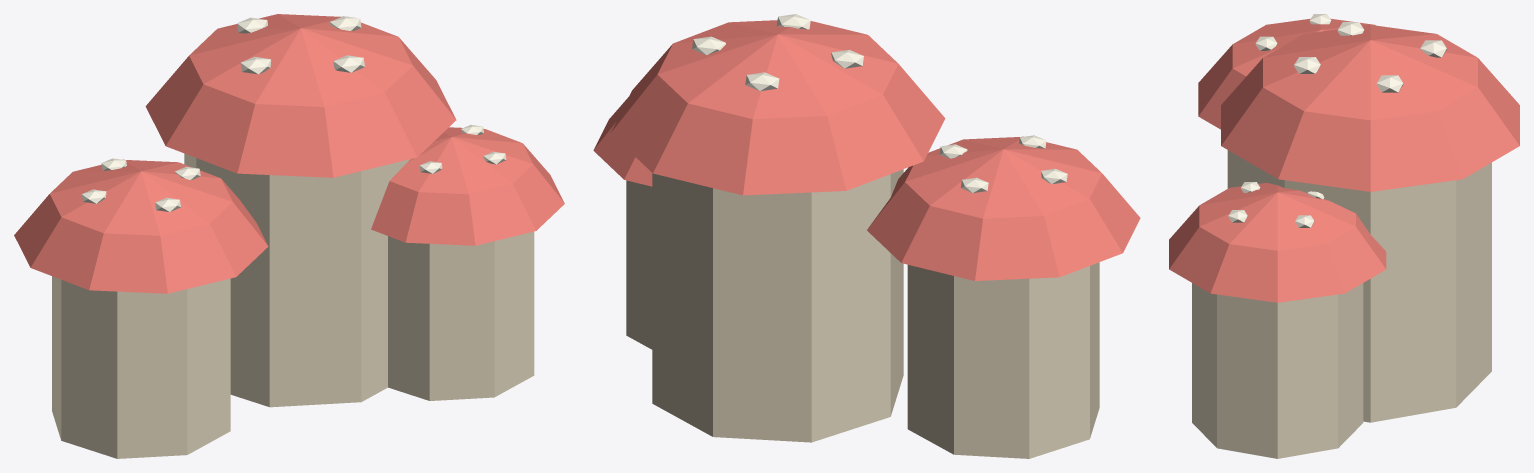
File: Mushroom_RedWhite.glb
3 renders of one model, left to right at view 1: azimuth 30°, elevation 25°; view 2: azimuth 150°, elevation 25°; view 3: azimuth 270°, elevation 25°, orthographic. The views are drawn at different scales.
Parts seen in each view (by area): view 1: FTF_Nature_Mushroom_RedWhite_Natural_StaticMesh; view 2: FTF_Nature_Mushroom_RedWhite_Natural_StaticMesh; view 3: FTF_Nature_Mushroom_RedWhite_Natural_StaticMesh.
Part boxes in pixels (box(x1,y1,x2,y2)): FTF_Nature_Mushroom_RedWhite_Natural_StaticMesh: box(14, 14, 564, 458); FTF_Nature_Mushroom_RedWhite_Natural_StaticMesh: box(593, 14, 1140, 458); FTF_Nature_Mushroom_RedWhite_Natural_StaticMesh: box(1169, 14, 1519, 458).
Size of the model in its own units: 0.81 by 0.512 by 0.4914.
